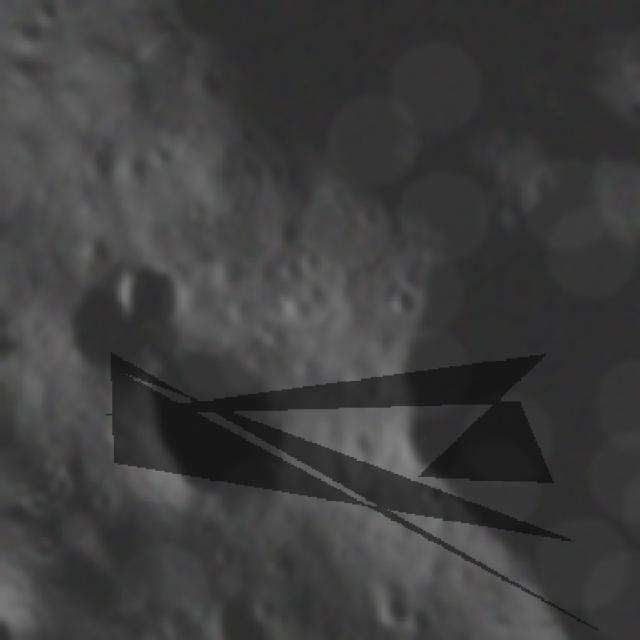crater: (370, 266, 436, 334)
